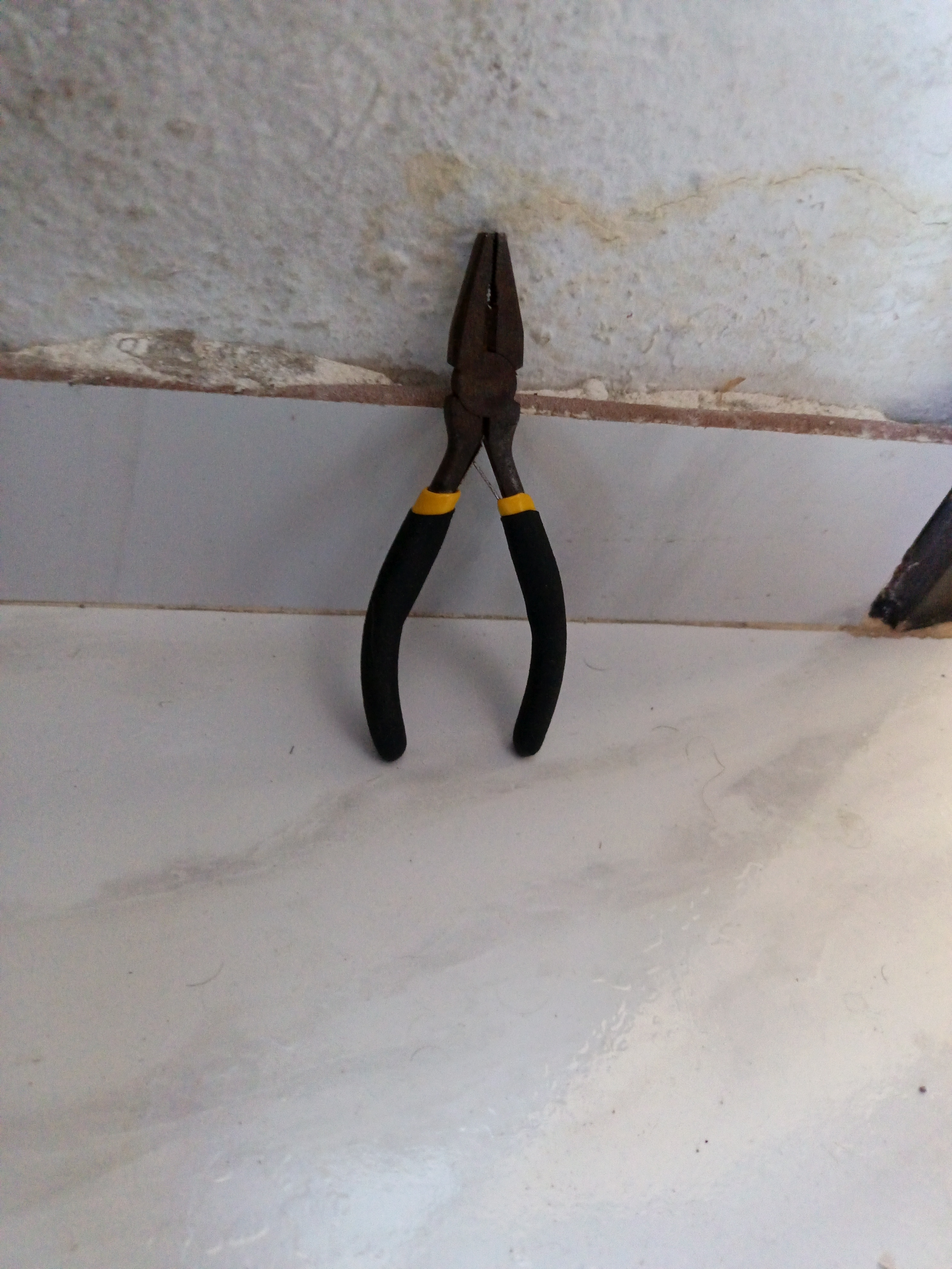Pinzas: (361, 233, 566, 760)
